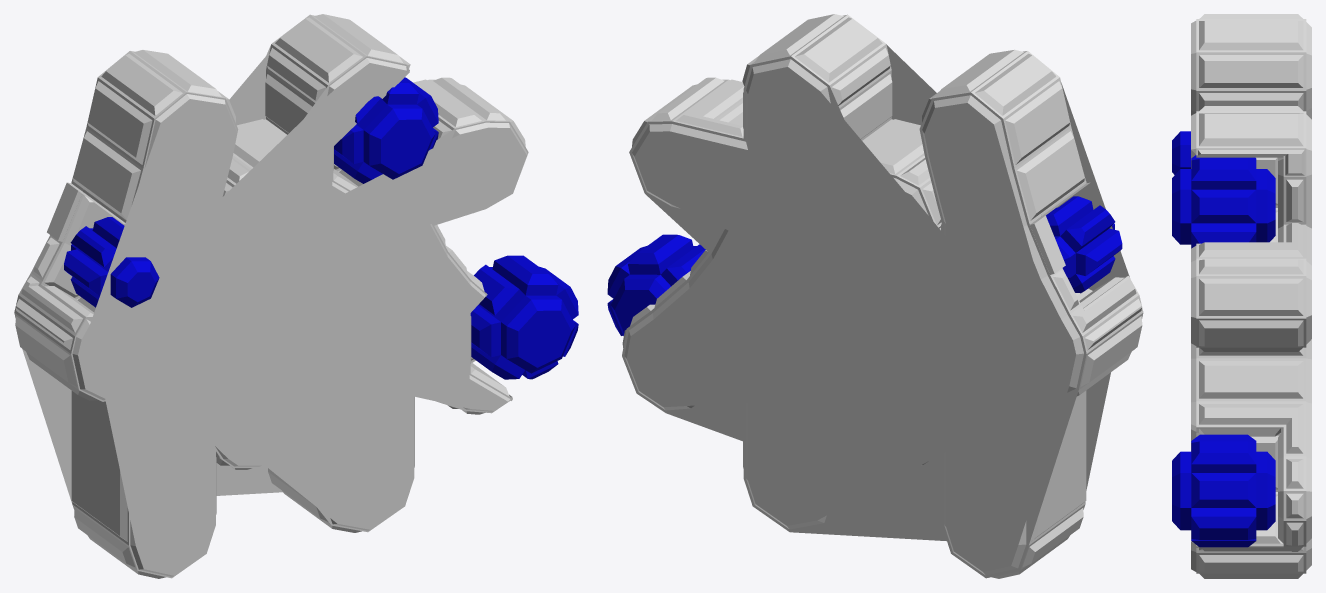
The model's file is Ch_China_休_01.fbx.
3 views of the same model, side by side, from view 1: azimuth 30°, elevation 25°; view 2: azimuth 150°, elevation 25°; view 3: azimuth 270°, elevation 25° (orthographic). The views are drawn at different scales.
Visible parts, largest first — view 1: sphere1; view 2: sphere1; view 3: sphere1.
Part boxes in pixels (<box>): sphere1: <box>14,14,578,578</box>; sphere1: <box>607,14,1143,578</box>; sphere1: <box>1172,14,1311,578</box>.
Bounding box in the file's own units: 1.04 × 0.947 × 0.2541.
